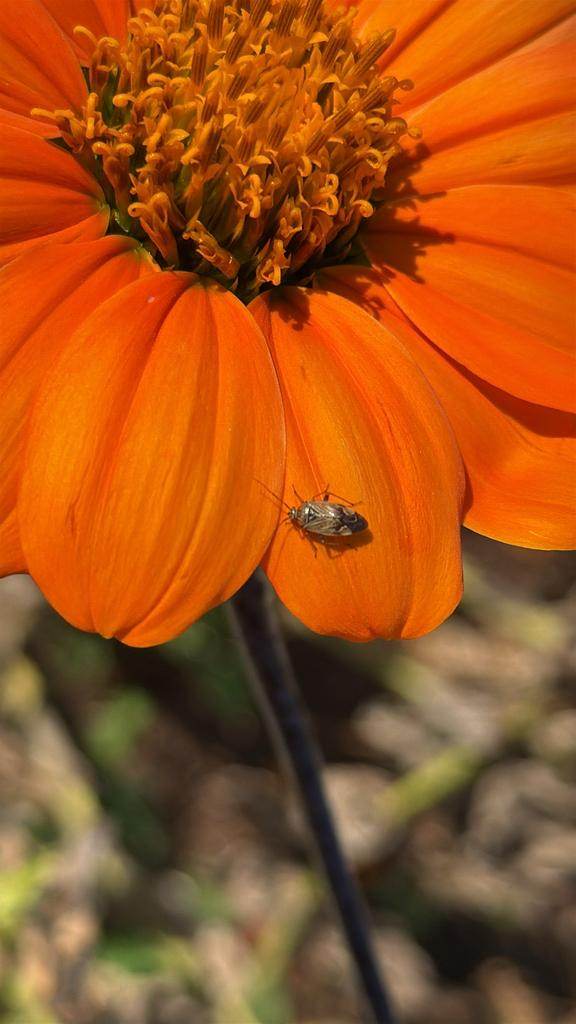plant_bugs: (232, 454, 401, 579)
